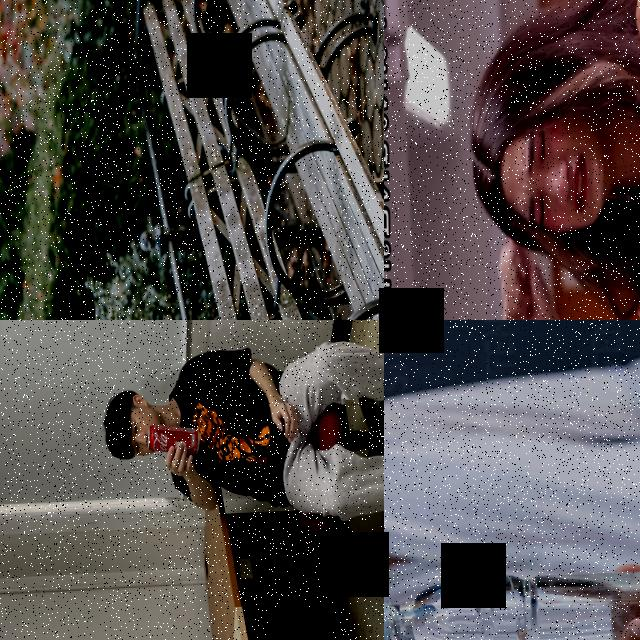bottle: (384, 567, 640, 640)
can: (146, 423, 199, 452)
